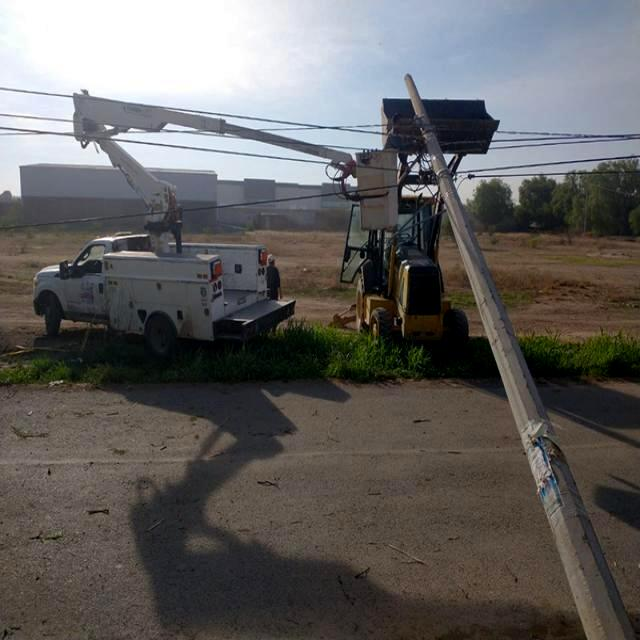Broken Pole: (401, 74, 640, 638)
